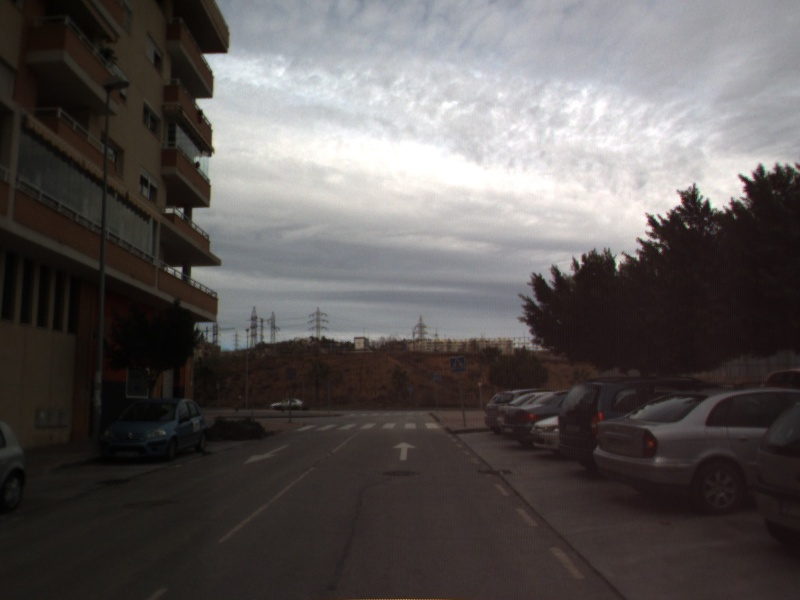STRAIGHT: (390, 439, 420, 463)
